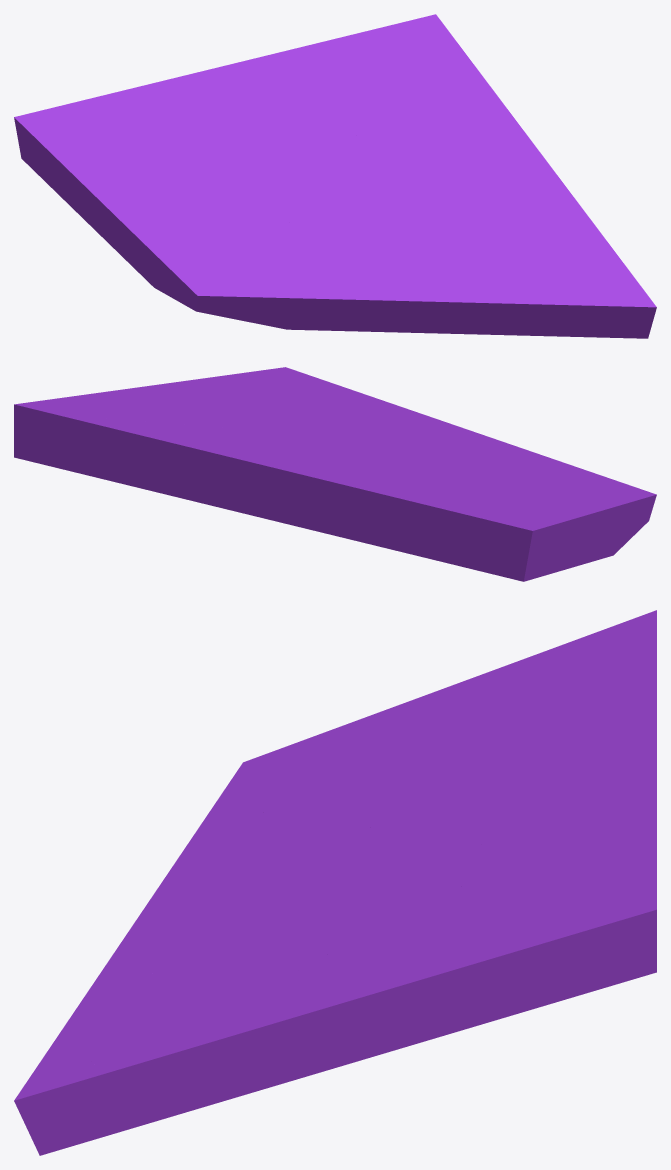
The model's file is Window_158_2_chunks.fbx.
3 renders of one model, top to bottom at view 1: azimuth 30°, elevation 25°; view 2: azimuth 150°, elevation 25°; view 3: azimuth 270°, elevation 25°, orthographic. The views are drawn at different scales.
Parts seen in each view (by area): view 1: Window_158_2_8, Window_158_2_9, Window_158_2_1, Window_158_2_12, Window_158_2_0, Window_158_2_23, Window_158_2_17, Window_158_2_3, Window_158_2_18, Window_158_2_21, Window_158_2_15, Window_158_2_2 (+6 smaller); view 2: Window_158_2_1, Window_158_2_17, Window_158_2_18, Window_158_2_9, Window_158_2_23, Window_158_2_8, Window_158_2_0, Window_158_2_12, Window_158_2_3, Window_158_2_21, Window_158_2_2, Window_158_2_20 (+5 smaller); view 3: Window_158_2_9, Window_158_2_23, Window_158_2_8, Window_158_2_1, Window_158_2_12, Window_158_2_21, Window_158_2_22, Window_158_2_17, Window_158_2_18, Window_158_2_3, Window_158_2_2, Window_158_2_0 (+8 smaller).
Boxes of the visible parts, x1,y1,x2,y2 form: Window_158_2_8: [257, 200, 433, 332]; Window_158_2_9: [384, 190, 631, 274]; Window_158_2_1: [14, 85, 189, 270]; Window_158_2_12: [251, 128, 491, 200]; Window_158_2_0: [135, 227, 279, 325]; Window_158_2_23: [386, 14, 506, 126]; Window_158_2_17: [144, 38, 337, 111]; Window_158_2_3: [99, 156, 237, 251]; Window_158_2_18: [301, 22, 402, 140]; Window_158_2_21: [428, 112, 568, 193]; Window_158_2_15: [460, 287, 639, 337]; Window_158_2_2: [183, 115, 298, 243]; Window_158_2_1: [358, 483, 607, 581]; Window_158_2_17: [134, 434, 384, 541]; Window_158_2_18: [55, 414, 293, 491]; Window_158_2_9: [178, 371, 421, 436]; Window_158_2_23: [14, 392, 210, 472]; Window_158_2_8: [388, 427, 607, 477]; Window_158_2_0: [505, 467, 656, 558]; Window_158_2_12: [237, 403, 422, 468]; Window_158_2_3: [445, 477, 625, 531]; Window_158_2_21: [110, 382, 246, 417]; Window_158_2_2: [386, 458, 514, 484]; Window_158_2_20: [275, 442, 406, 484]; Window_158_2_9: [85, 892, 333, 1113]; Window_158_2_23: [446, 883, 656, 1014]; Window_158_2_8: [127, 806, 371, 933]; Window_158_2_1: [465, 610, 656, 742]; Window_158_2_12: [300, 788, 469, 967]; Window_158_2_21: [270, 915, 452, 1046]; Window_158_2_22: [274, 968, 512, 1071]; Window_158_2_17: [545, 702, 656, 839]; Window_158_2_18: [466, 819, 656, 885]; Window_158_2_3: [347, 681, 504, 784]; Window_158_2_2: [302, 734, 583, 827]; Window_158_2_0: [214, 724, 352, 817].
Bounding box in the file's own units: 1025 × 393 × 930.
